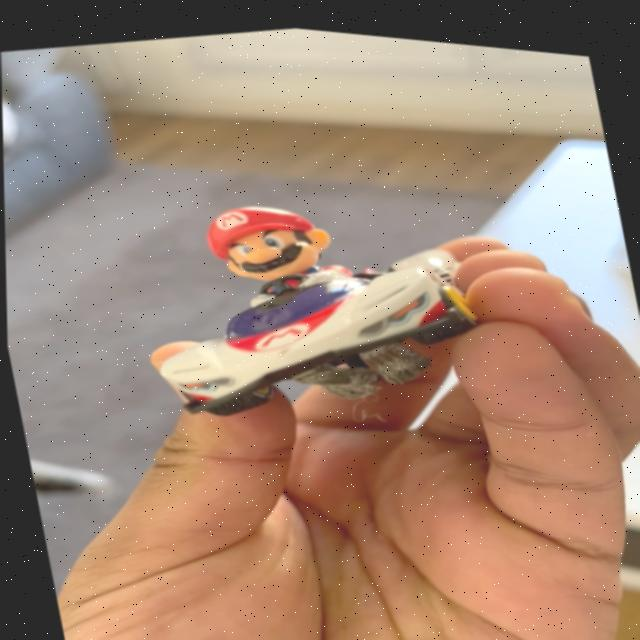mario: (95, 139, 531, 460)
